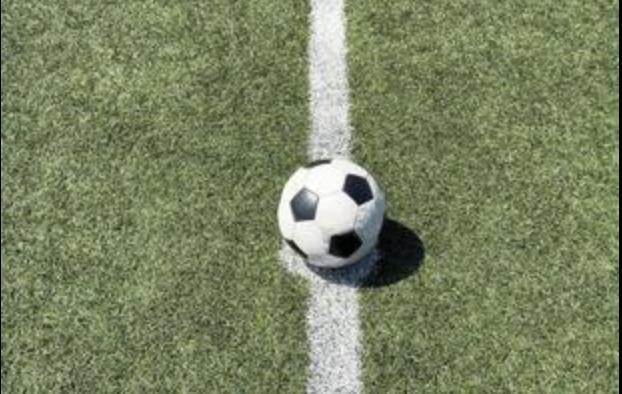Sports-Ball: (278, 158, 385, 268)
